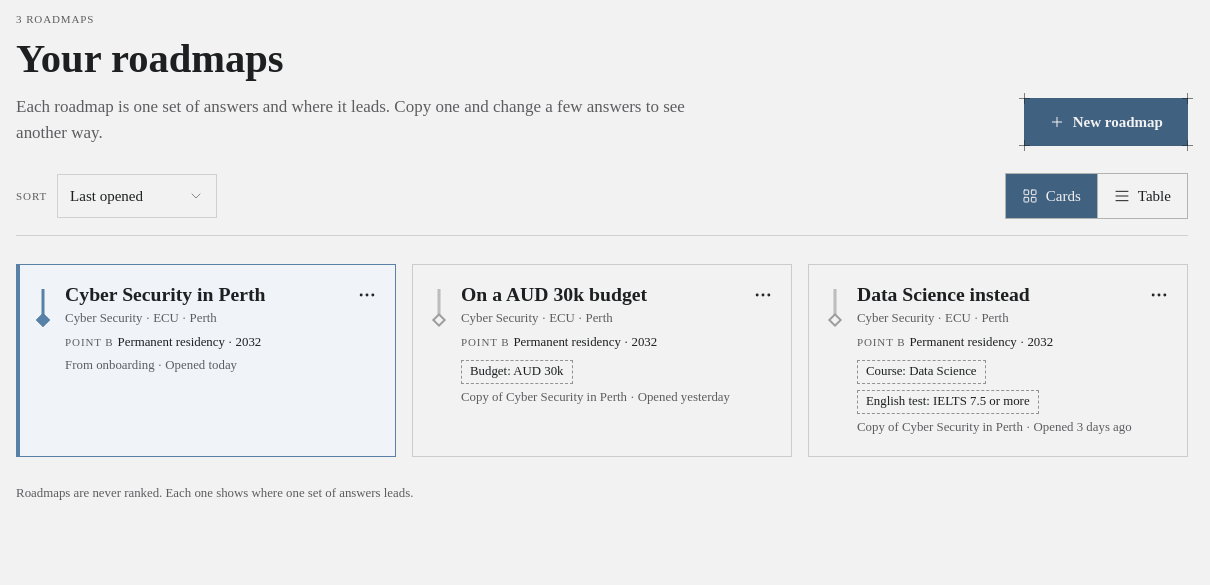
the … menu › offers Open, Copy and change answers, Rename, Archive and Delete
The width and height of the screenshot is (1210, 585).
Click the button named "More for On a AUD 30k budget": (763, 294) [741,272,785,316]
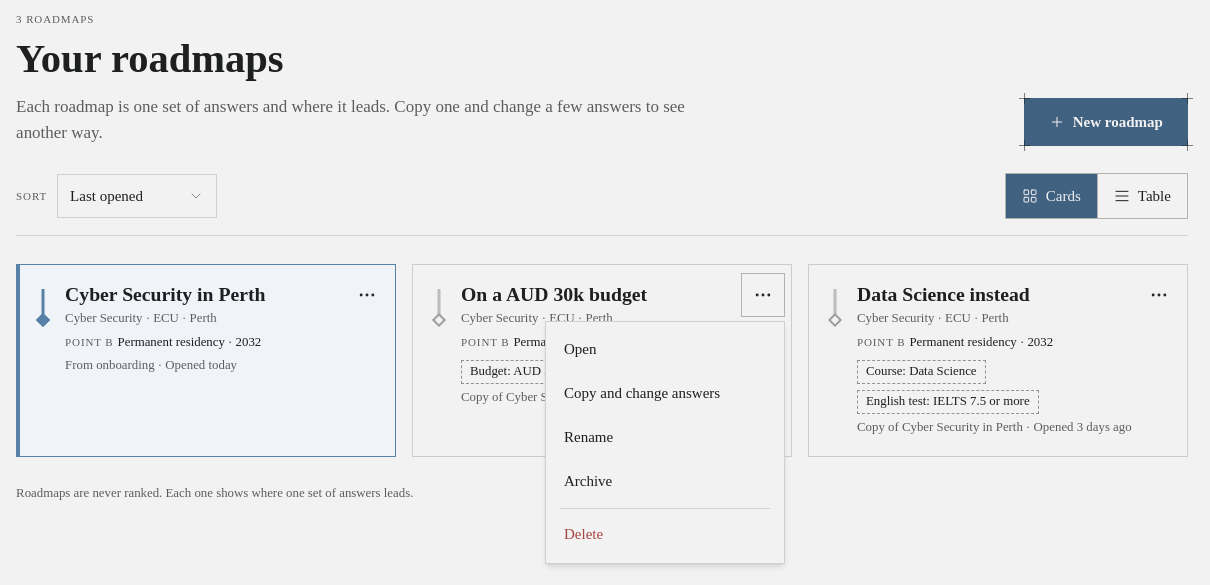
expect the menu items read "Open", "Copy and change answers", "Rename", "Archive", "Delete", in this order: met, box [552,328,778,372]; [564,385,720,401]; [552,416,778,460]; [552,460,778,504]; [552,512,778,556]
